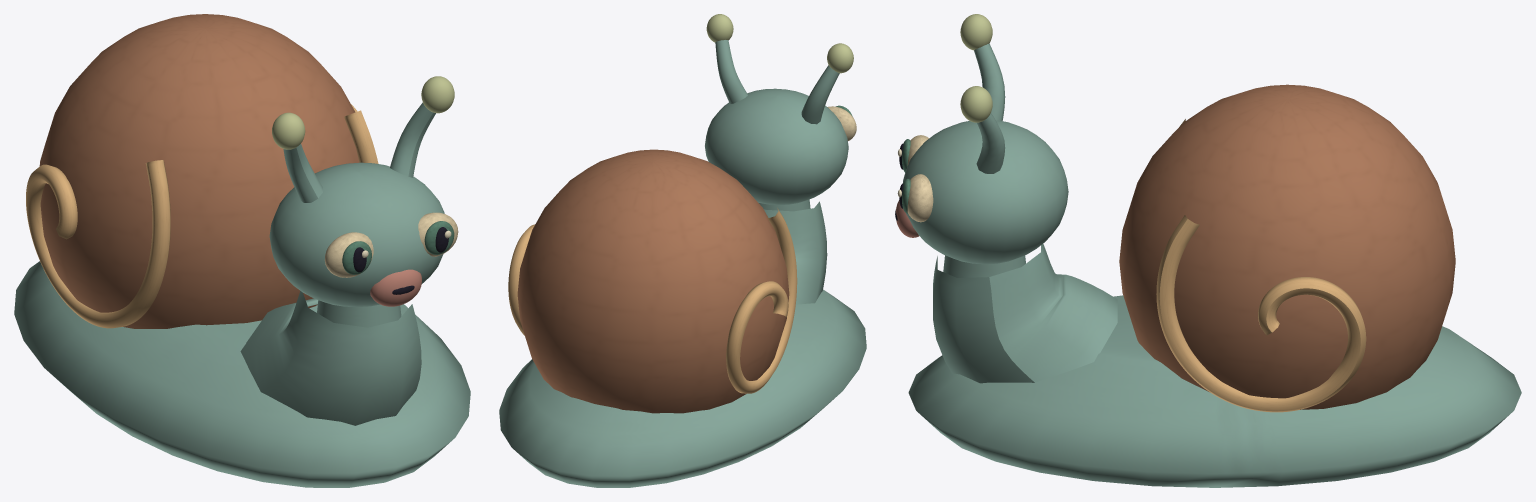
The model's file is kepp.glb.
3 renders of one model, left to right at view 1: azimuth 30°, elevation 25°; view 2: azimuth 150°, elevation 25°; view 3: azimuth 270°, elevation 25°, orthographic. The views are drawn at different scales.
Visible parts, largest first — view 1: Shell, Muscular foot, Rising neck, Cranium, Shell spiral (×2), Sensing stalk (×2), Sensory bulb (×2), Sclera (×2), Visible neck, Puckered muzzle, Iris (×2); view 2: Shell, Muscular foot, Cranium, Shell spiral (×2), Rising neck, Sensing stalk (×2), Sensory bulb (×2), Sclera; view 3: Shell, Muscular foot, Rising neck, Cranium, Shell spiral, Sensing stalk (×2), Sensory bulb (×2), Visible neck, Sclera.
Boxes of the visible parts, x1,y1,x2,y2 form: Shell: (39, 14, 359, 328); Muscular foot: (14, 261, 470, 487); Rising neck: (240, 291, 421, 425); Cranium: (269, 162, 444, 307); Shell spiral (×2): (26, 104, 378, 328); Sensing stalk (×2): (283, 102, 435, 202); Sensory bulb (×2): (272, 76, 454, 149); Sclera (×2): (324, 212, 458, 277); Visible neck: (317, 300, 401, 327); Puckered muzzle: (370, 269, 421, 306); Iris (×2): (342, 221, 454, 274); Shell: (517, 149, 789, 413); Muscular foot: (499, 289, 866, 487); Cranium: (705, 88, 848, 204); Shell spiral (×2): (508, 208, 797, 393); Rising neck: (764, 201, 827, 304); Sensing stalk (×2): (715, 40, 839, 124); Sensory bulb (×2): (706, 14, 853, 73); Sclera: (827, 106, 856, 140); Shell: (1119, 84, 1455, 409); Muscular foot: (908, 295, 1521, 487); Rising neck: (933, 244, 1117, 383); Cranium: (902, 120, 1068, 264); Shell spiral: (1156, 215, 1366, 412); Sensing stalk (×2): (974, 43, 1005, 173); Sensory bulb (×2): (960, 14, 992, 122); Visible neck: (943, 255, 1025, 277); Sclera: (907, 174, 933, 222).
Size of the model in its own units: 0.9 by 0.964 by 1.47.
9 materials, 9 textured.
